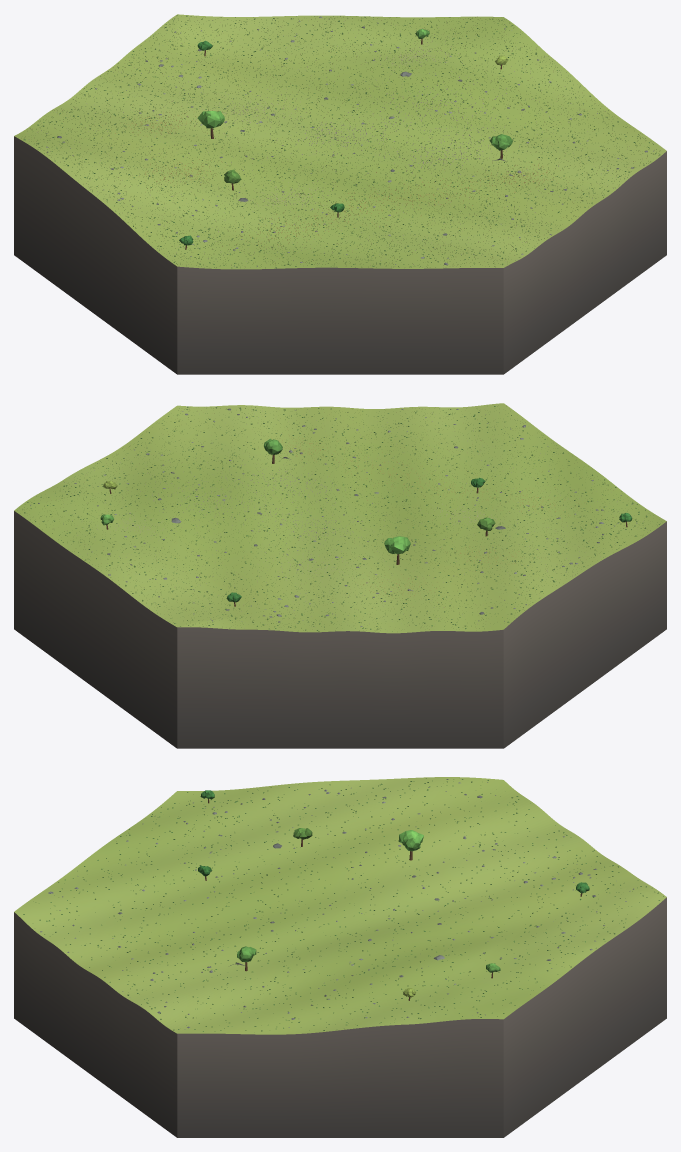
3 views of the same model, one above another, from view 1: azimuth 30°, elevation 25°; view 2: azimuth 150°, elevation 25°; view 3: azimuth 270°, elevation 25° (orthographic).
Visible parts, largest first — view 1: terrain, hex_side_cut, wildflowers, shrubs, broadleaf_canopy, boulders; view 2: terrain, hex_side_cut, wildflowers, shrubs, broadleaf_canopy, boulders; view 3: terrain, hex_side_cut, shrubs, broadleaf_canopy, boulders.
Part boxes in pixels (x1,y1,x2,y2): terrain: [14, 14, 666, 269]; hex_side_cut: [14, 136, 666, 374]; wildflowers: [21, 15, 660, 268]; shrubs: [24, 15, 660, 268]; broadleaf_canopy: [179, 29, 512, 245]; boulders: [29, 16, 653, 266]; terrain: [14, 403, 666, 633]; hex_side_cut: [14, 511, 666, 748]; wildflowers: [17, 404, 660, 630]; shrubs: [22, 406, 659, 631]; broadleaf_canopy: [100, 438, 632, 602]; boulders: [30, 408, 637, 626]; terrain: [14, 777, 666, 1034]; hex_side_cut: [14, 897, 666, 1137]; shrubs: [23, 778, 663, 1031]; broadleaf_canopy: [198, 790, 589, 997]; boulders: [40, 779, 634, 1029].
Size of the model in its own units: 4330 by 1191 by 5000.
